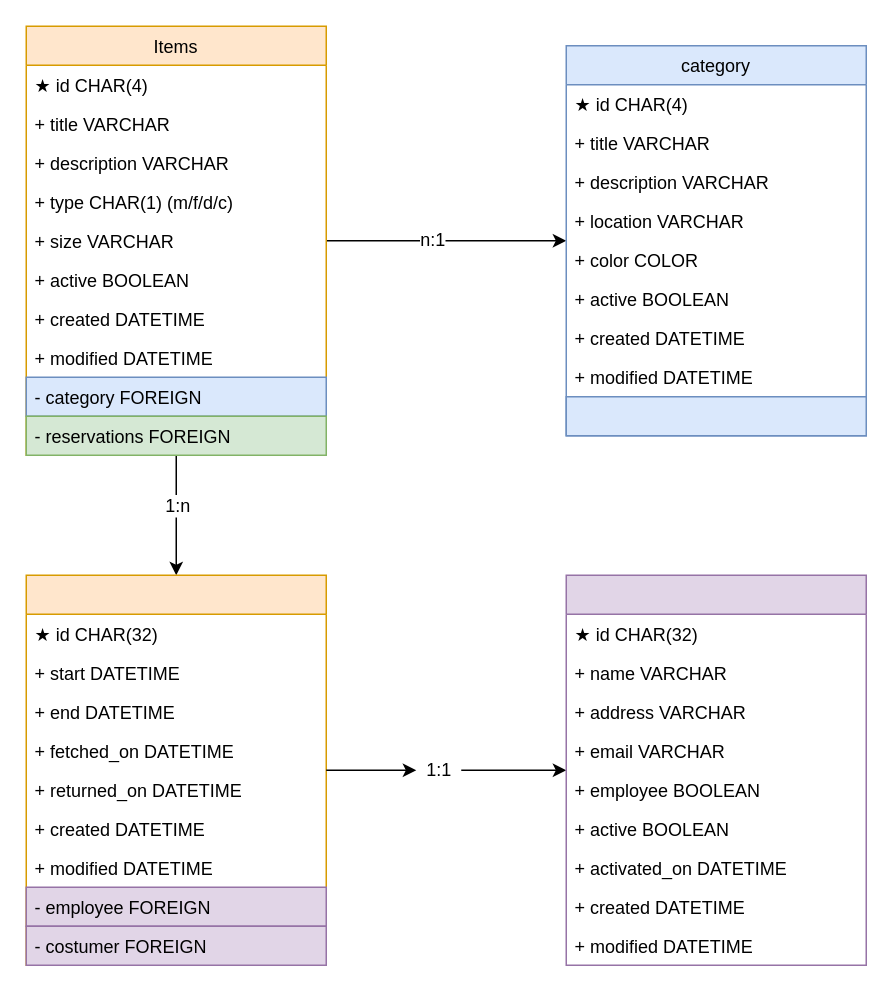
This 893x996 diagram has some shape labels left out. The shapes that lost their labels are listed below. From the top down, each one's box as (x1, y1, x2, y2) in pixels, then its label:
(565, 395, 866, 436): - items FOREIGN
(25, 574, 326, 965): reservations
(565, 574, 866, 965): users
